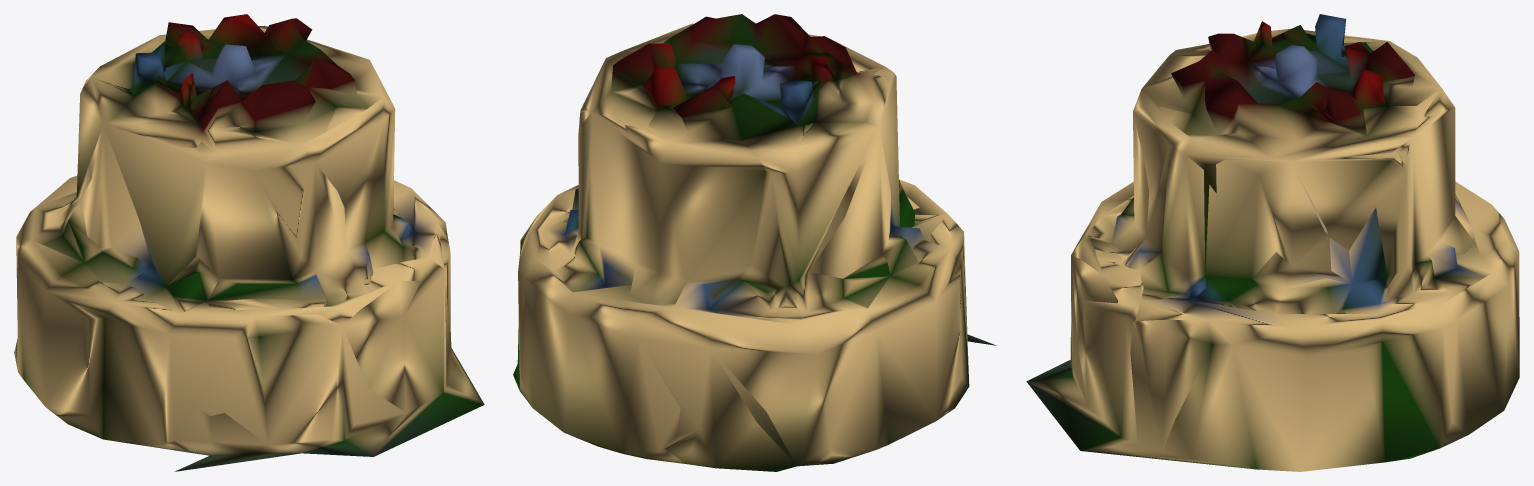
The model's file is gen3d-wedding-cake-lod1.glb.
3 renders of one model, left to right at view 1: azimuth 30°, elevation 25°; view 2: azimuth 150°, elevation 25°; view 3: azimuth 270°, elevation 25°, orthographic. The views are drawn at different scales.
Parts seen in each view (by area): view 1: part_0; view 2: part_0; view 3: part_0.
Part boxes in pixels (left/top/right/bottom): part_0: left=14, top=14, right=484, bottom=471; part_0: left=513, top=14, right=996, bottom=471; part_0: left=1026, top=14, right=1519, bottom=471.
Size of the model in its own units: 1.24 by 0.9923 by 1.34.
